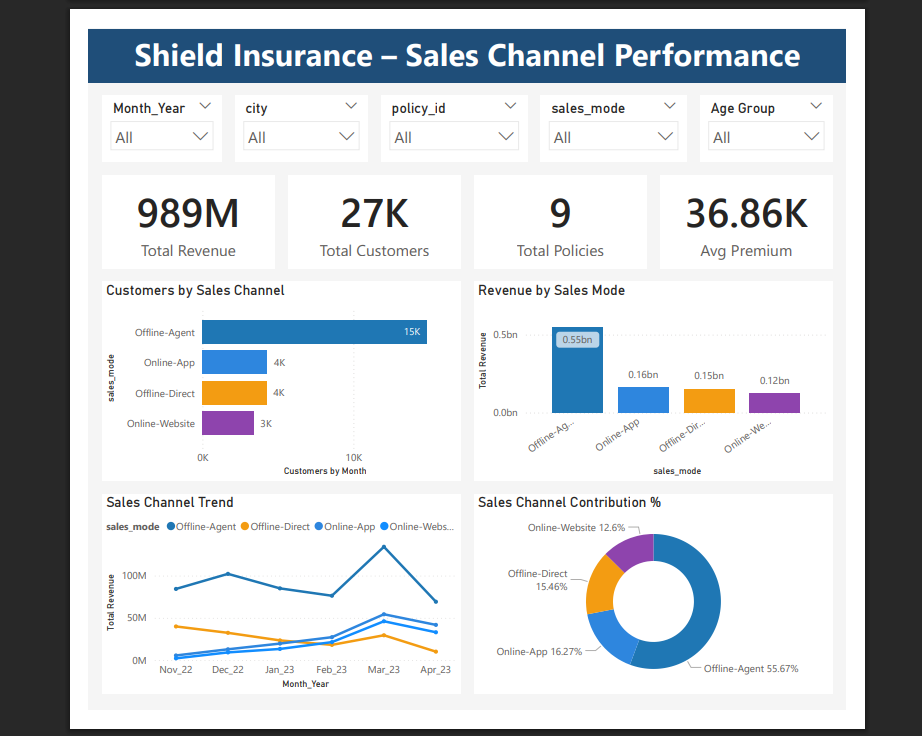

This screenshot's page, from the dashboard's own definition file:
{"tool":"powerbi","page":{"name":"Page 2","canvas":[912,820],"ordinal":1},"visuals":[{"type":"textbox","title":"Shield Insurance Business Insights Dashboard","box":[0,0,912,64],"z":0},{"type":"cardVisual","title":"Total Revenue","fields":{"Data":["fact_premiums.Total Revenue"]},"box":[16,176,208,112],"z":1000},{"type":"cardVisual","title":"Total Customers","fields":{"Data":["fact_premiums.Total Customers"]},"box":[240,176,208,112],"z":2000},{"type":"cardVisual","title":"Total Policies","fields":{"Data":["fact_premiums.Total Policies"]},"box":[464,176,208,112],"z":3000},{"type":"cardVisual","title":"Avg Premium","fields":{"Data":["fact_premiums.Avg Premium"]},"box":[1056,80,208,112],"z":4000},{"type":"lineClusteredColumnComboChart","title":"Revenue by Sales Mode","fields":{"Category":["fact_premiums.sales_mode"],"Y":["fact_premiums.Total Revenue"]},"box":[464,304,432,240],"z":5000},{"type":"clusteredBarChart","title":"Customers by Sales Channel","fields":{"Category":["fact_premiums.sales_mode"],"Y":["fact_premiums.Customers by Month"]},"box":[16,304,432,240],"z":6000},{"type":"lineChart","title":"Sales Channel Trend","fields":{"Category":["dim_date.Month_Year"],"Y":["fact_premiums.Total Revenue"],"Series":["fact_premiums.sales_mode"]},"box":[16,560,432,240],"z":7000},{"type":"donutChart","title":"Sales Channel Contribution %","fields":{"Y":["fact_premiums.Revenue"],"Category":["fact_premiums.sales_mode"]},"box":[464,560,432,240],"z":8000},{"type":"slicer","fields":{"Values":["dim_date.Month_Year"]},"box":[16,80,208,80],"z":9000},{"type":"slicer","fields":{"Values":["dim_customer.city"]},"box":[240,80,208,80],"z":10000},{"type":"slicer","fields":{"Values":["fact_premiums.sales_mode"]},"box":[464,80,208,80],"z":11000},{"type":"slicer","fields":{"Values":["dim_customer.Age Group"]},"box":[688,80,208,80],"z":12000},{"type":"cardVisual","title":"Total Policies","fields":{"Data":["fact_premiums.Avg Premium"]},"box":[688,176,208,112],"z":13000}]}

Visuals, with their boxes on the page's 912x820 design canvas (x1, y1, x2, y2). These are canvas units, not pixel positions in the 922x736 screenshot, which may show the page scaled, cropped or inside an application window:
"Shield Insurance Business Insights Dashboard" textbox: select_region(0, 0, 912, 64)
"Total Revenue" cardVisual: select_region(16, 176, 224, 288)
"Total Customers" cardVisual: select_region(240, 176, 448, 288)
"Total Policies" cardVisual: select_region(464, 176, 672, 288)
"Avg Premium" cardVisual: select_region(1056, 80, 1264, 192)
"Revenue by Sales Mode" lineClusteredColumnComboChart: select_region(464, 304, 896, 544)
"Customers by Sales Channel" clusteredBarChart: select_region(16, 304, 448, 544)
"Sales Channel Trend" lineChart: select_region(16, 560, 448, 800)
"Sales Channel Contribution %" donutChart: select_region(464, 560, 896, 800)
slicer - dim_date.Month_Year: select_region(16, 80, 224, 160)
slicer - dim_customer.city: select_region(240, 80, 448, 160)
slicer - fact_premiums.sales_mode: select_region(464, 80, 672, 160)
slicer - dim_customer.Age Group: select_region(688, 80, 896, 160)
"Total Policies" cardVisual: select_region(688, 176, 896, 288)
